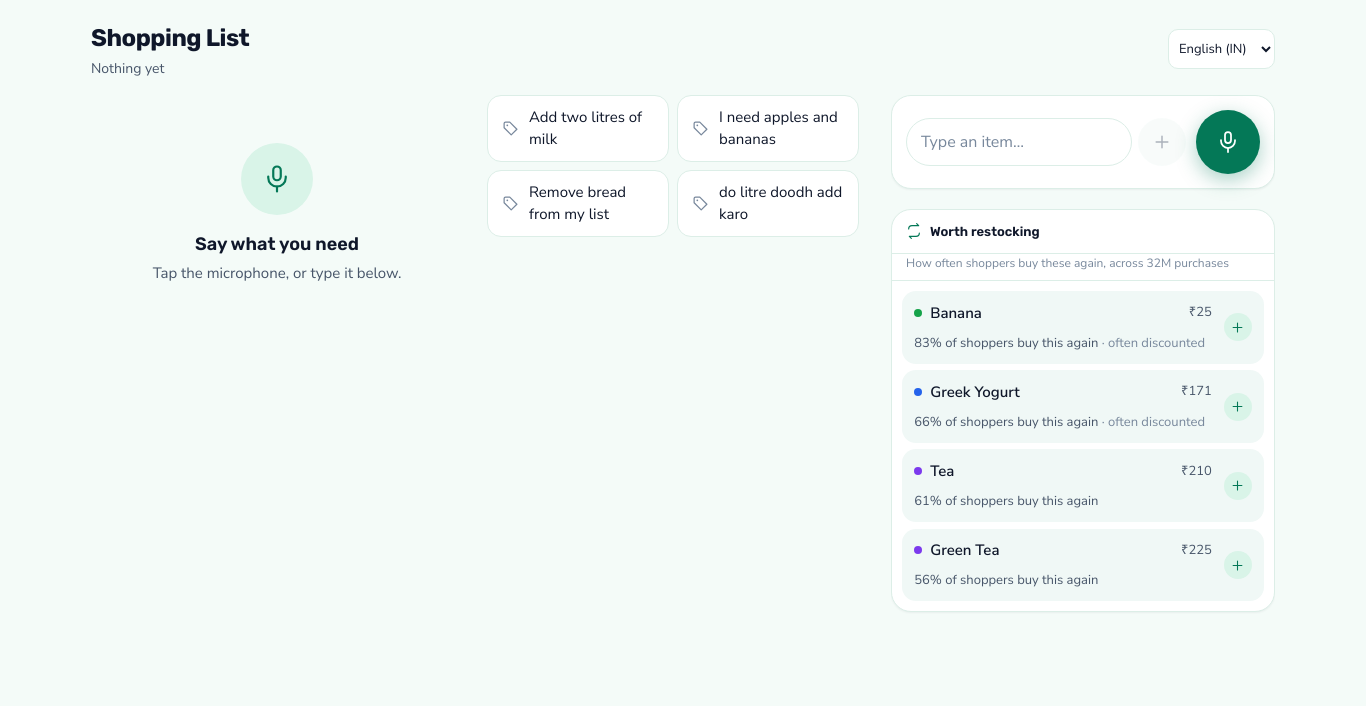
Test: the agent route › proposes rather than adding, and waits for confirmation
Click the button named "Start listening" at (1228, 142), box x1=1196 y1=110 x2=1260 y2=174
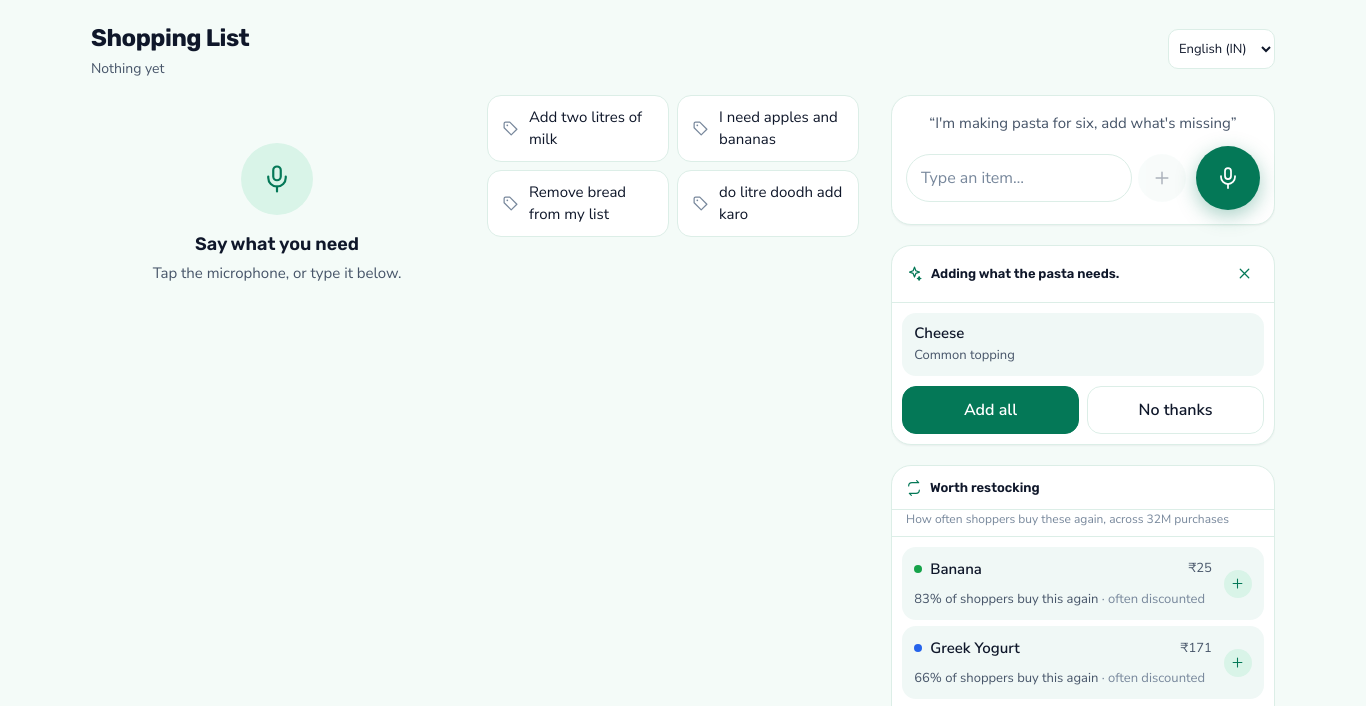
Now the heading "Adding what the pasta needs." is shown, box x1=931 y1=266 x2=1119 y2=281
